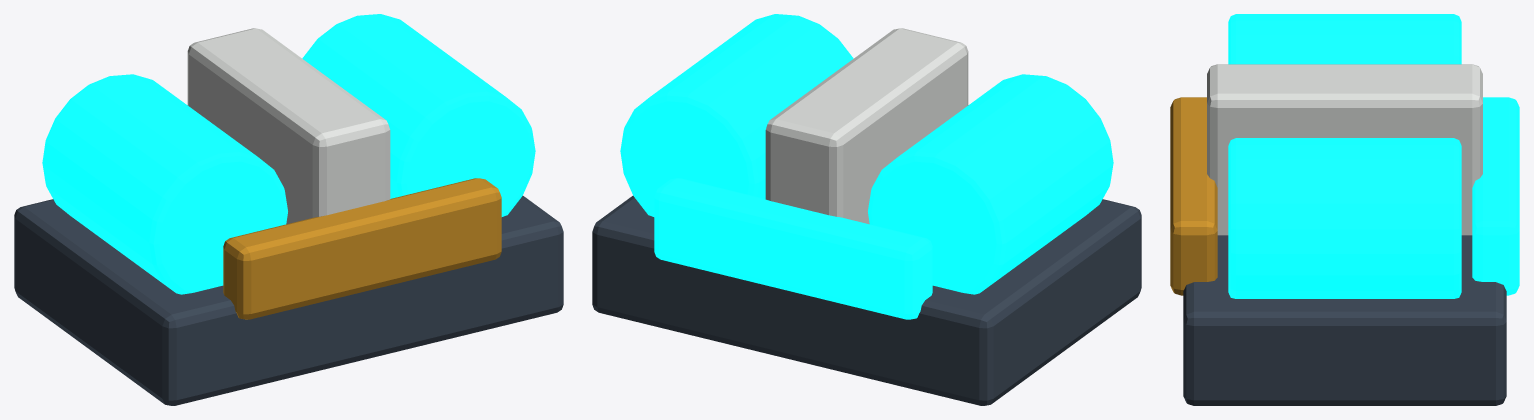
The model's file is QuenchCondenserModel.fbx.
The picture shows the model from 3 angles, left to right: view 1: azimuth 30°, elevation 25°; view 2: azimuth 150°, elevation 25°; view 3: azimuth 270°, elevation 25°; orthographic projection. The views are drawn at different scales.
Visible parts, largest first — view 1: Condenser armored plinth, West coolant coil, Condenser ceramic spine, East coolant coil, South warning manifold; view 2: Condenser armored plinth, West coolant coil, Condenser ceramic spine, East coolant coil, North return manifold; view 3: East coolant coil, Condenser armored plinth, Condenser ceramic spine, West coolant coil, North return manifold, South warning manifold.
Boxes of the visible parts, x1,y1,x2,y2 form: Condenser armored plinth: [14, 196, 563, 405]; West coolant coil: [42, 74, 287, 294]; Condenser ceramic spine: [187, 28, 390, 224]; East coolant coil: [302, 14, 535, 216]; South warning manifold: [223, 178, 501, 319]; Condenser armored plinth: [592, 196, 1141, 405]; West coolant coil: [868, 74, 1113, 294]; Condenser ceramic spine: [765, 28, 968, 224]; East coolant coil: [620, 14, 853, 216]; North return manifold: [654, 178, 932, 319]; East coolant coil: [1228, 138, 1461, 298]; Condenser armored plinth: [1183, 235, 1506, 405]; Condenser ceramic spine: [1207, 64, 1482, 235]; West coolant coil: [1228, 14, 1461, 64]; North return manifold: [1472, 97, 1519, 295]; South warning manifold: [1170, 97, 1217, 295].
Size of the model in its own units: 2.2 by 1.18 by 1.62.
